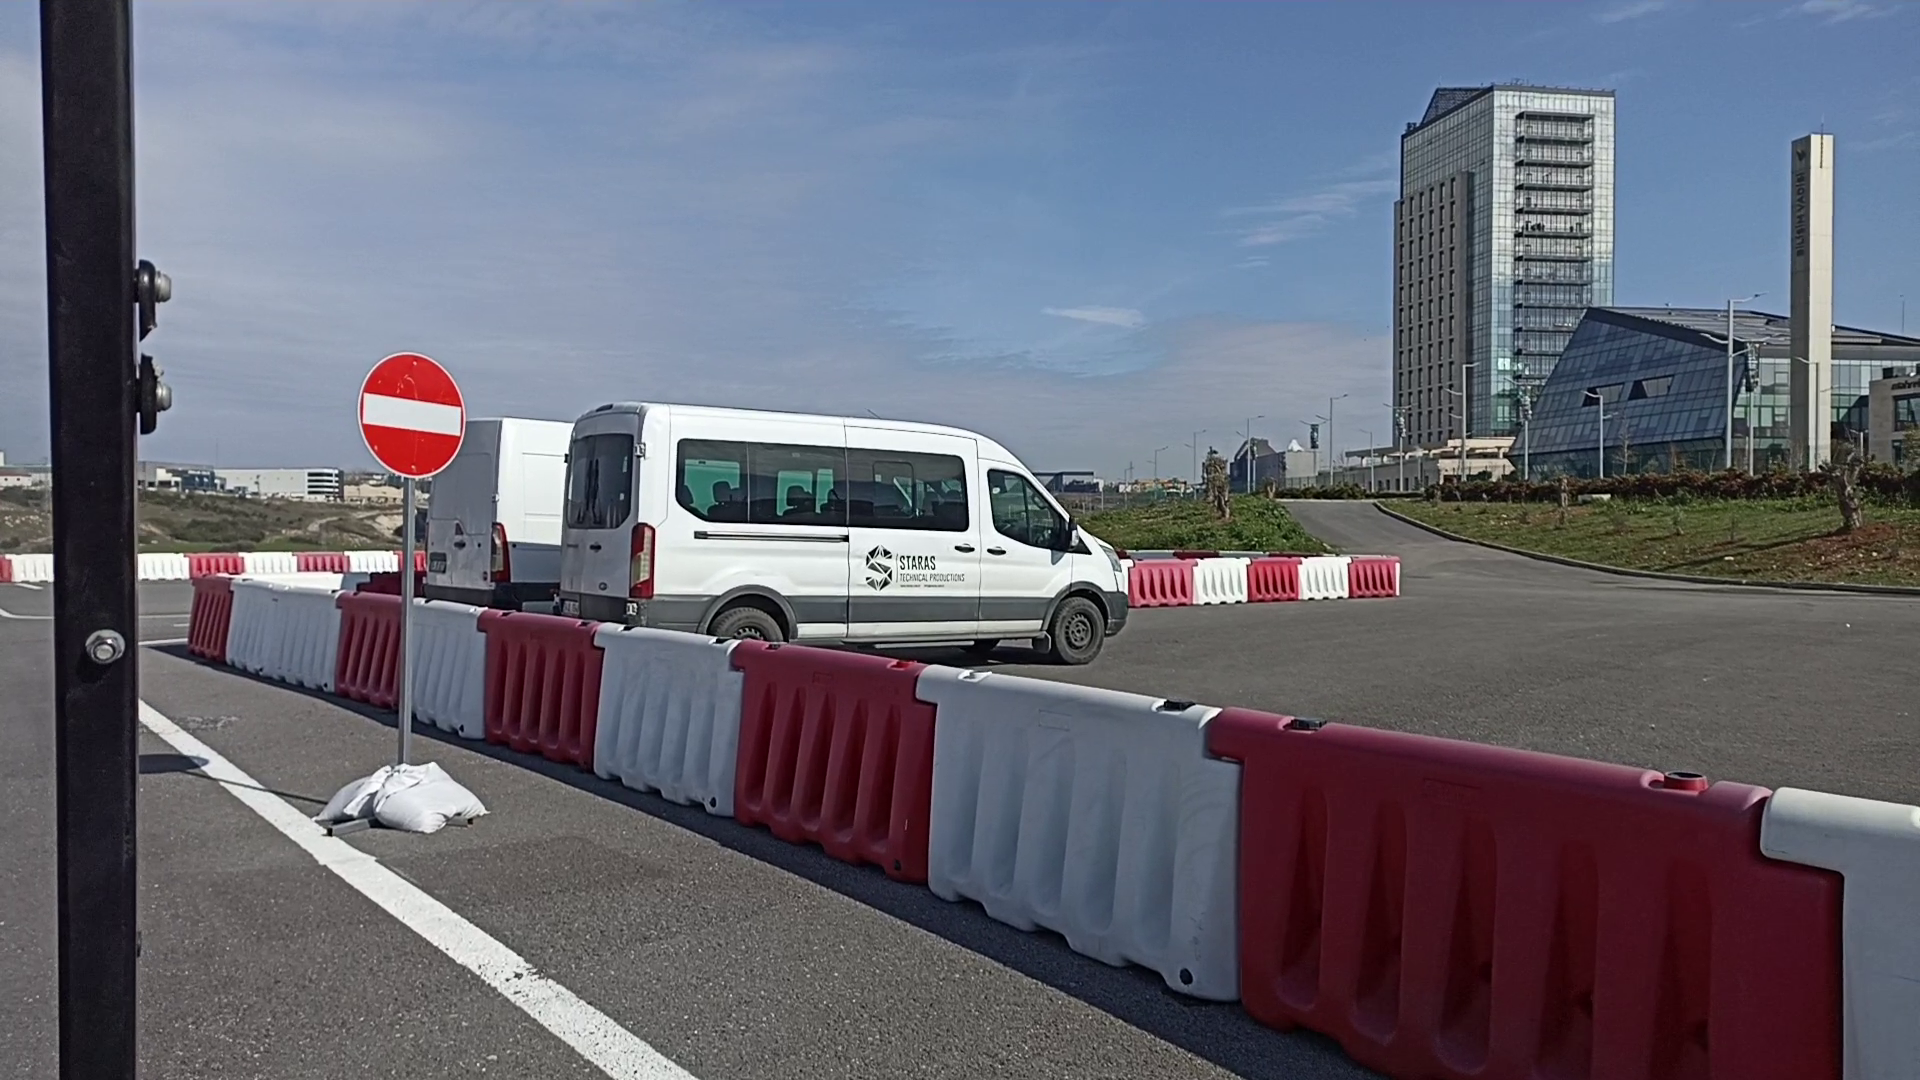noentryway: (355, 351, 468, 480)
